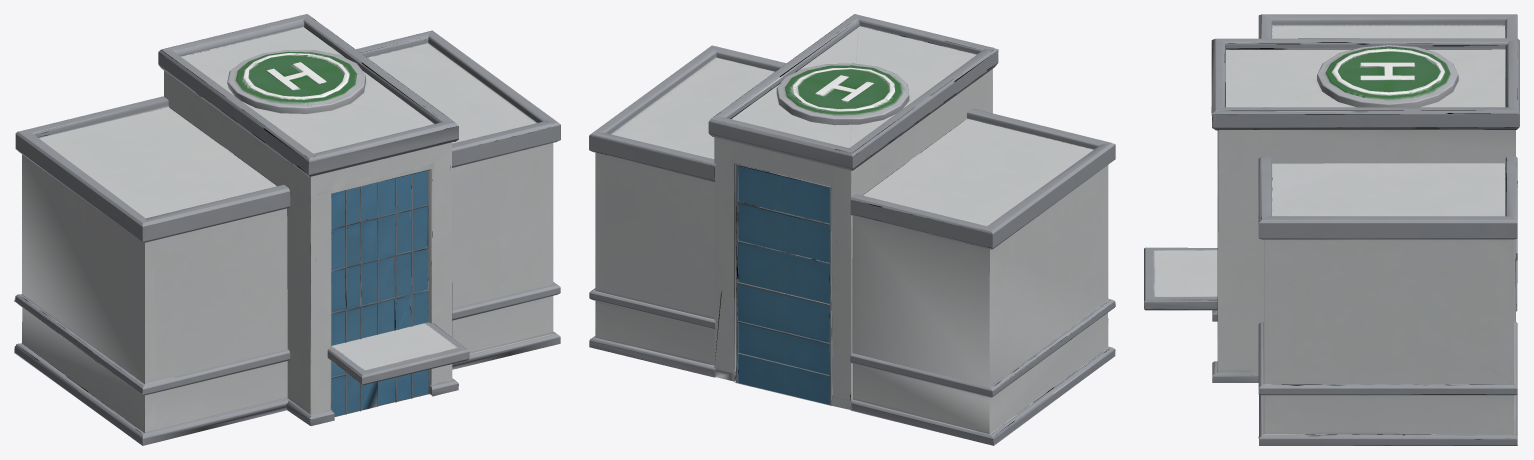
File: 30-hospital.glb
The picture shows the model from 3 angles, left to right: view 1: azimuth 30°, elevation 25°; view 2: azimuth 150°, elevation 25°; view 3: azimuth 270°, elevation 25°; orthographic projection. The views are drawn at different scales.
Parts seen in each view (by area): view 1: geometry_0; view 2: geometry_0; view 3: geometry_0.
Boxes of the visible parts, x1,y1,x2,y2 form: geometry_0: (14,14,560,445); geometry_0: (589,14,1115,445); geometry_0: (1144,14,1519,445).
Size of the model in its own units: 0.9526 by 0.5884 by 0.7261.
Materials: 1 (1 with a texture image).
